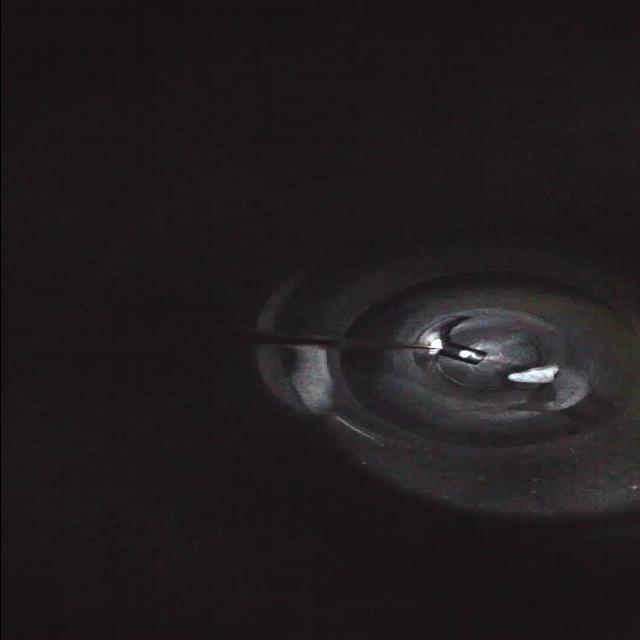impurity: (504, 362, 560, 386)
